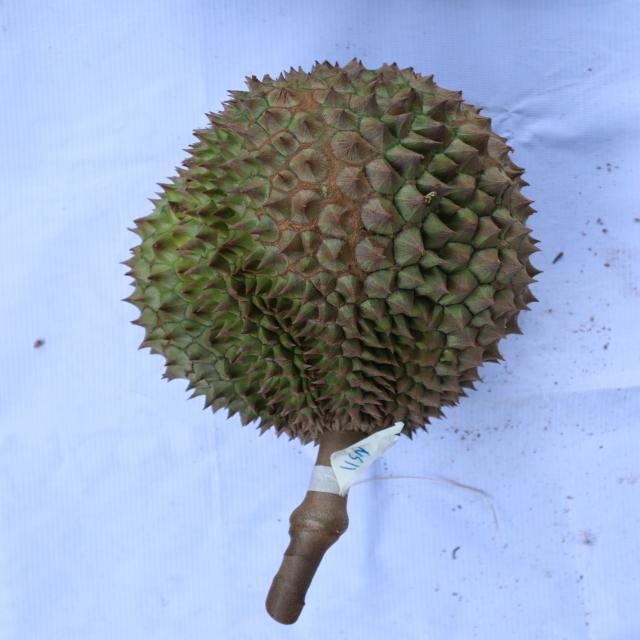mature: (118, 55, 548, 440)
